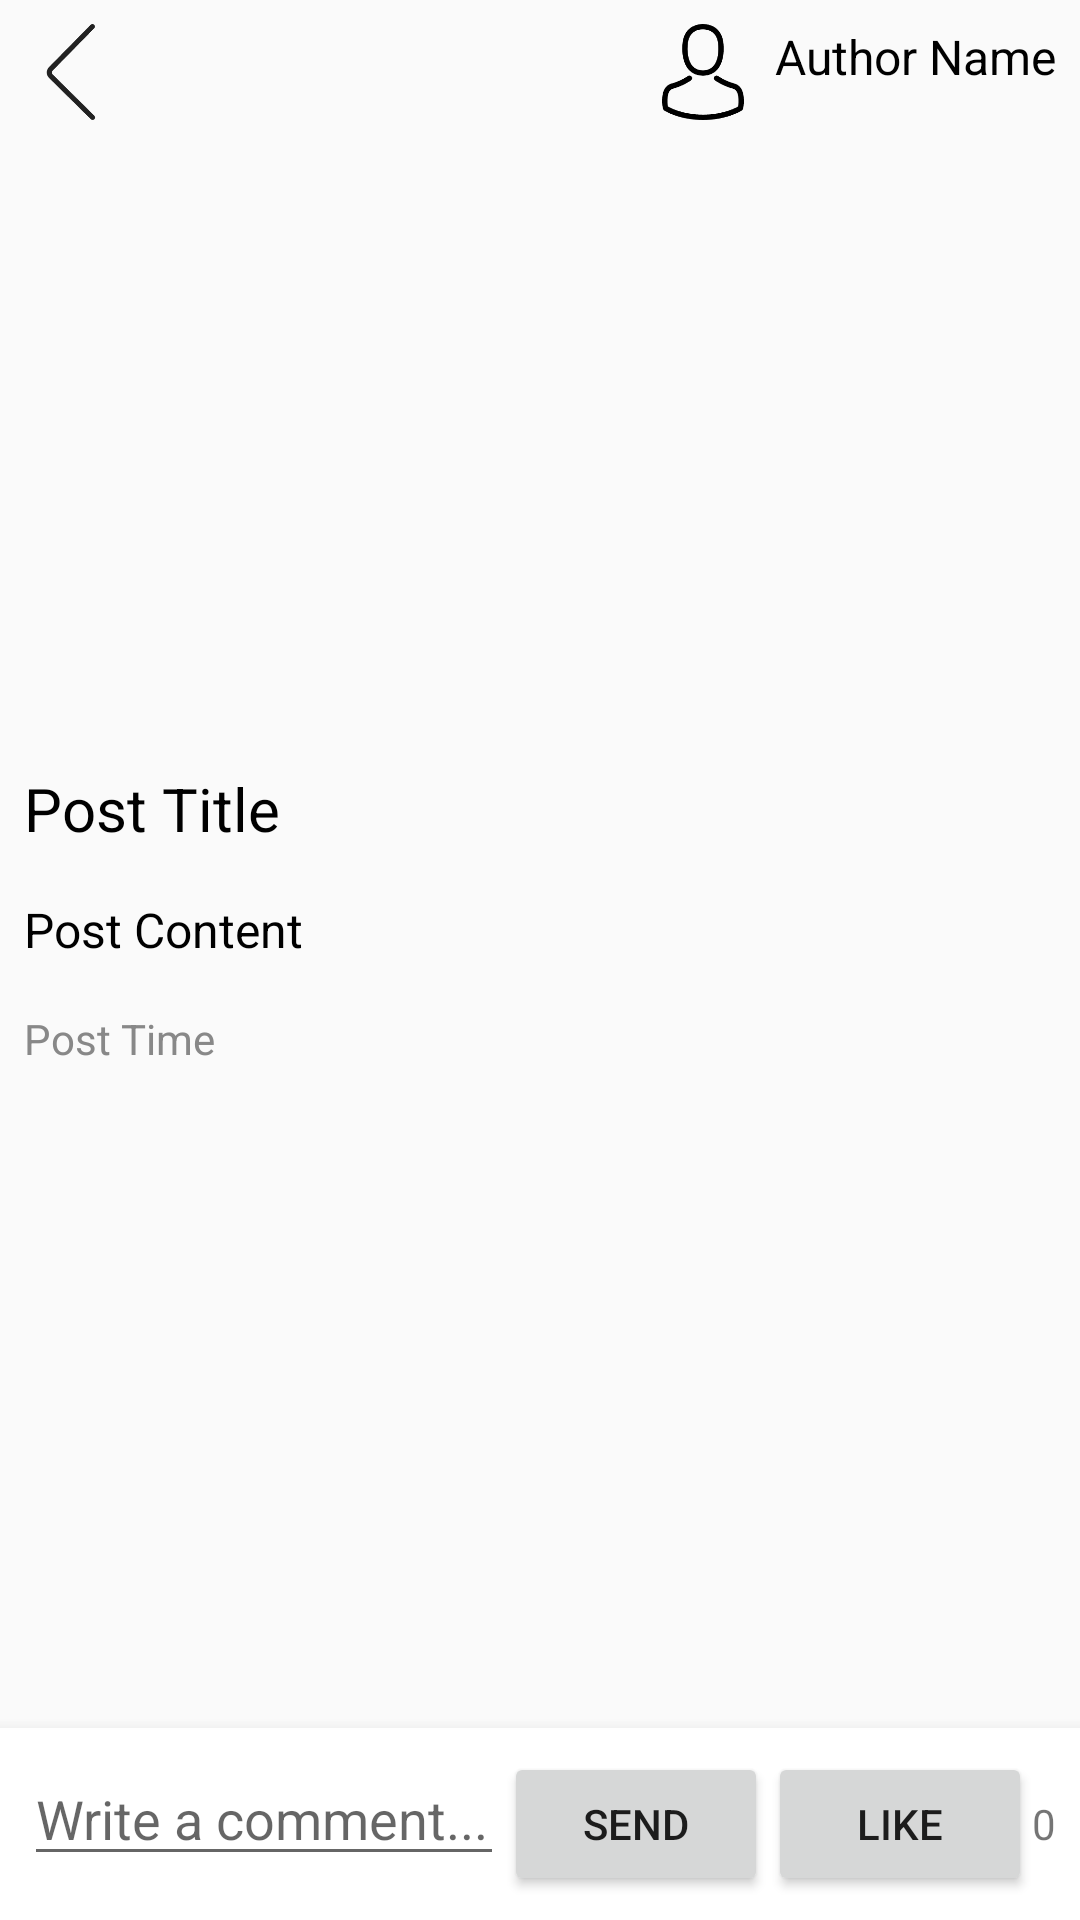

Icons on this 1080×1920 Android screen, each with its box as BBox(x1, y1, x2, y2):
Back: BBox(46, 24, 95, 120)
